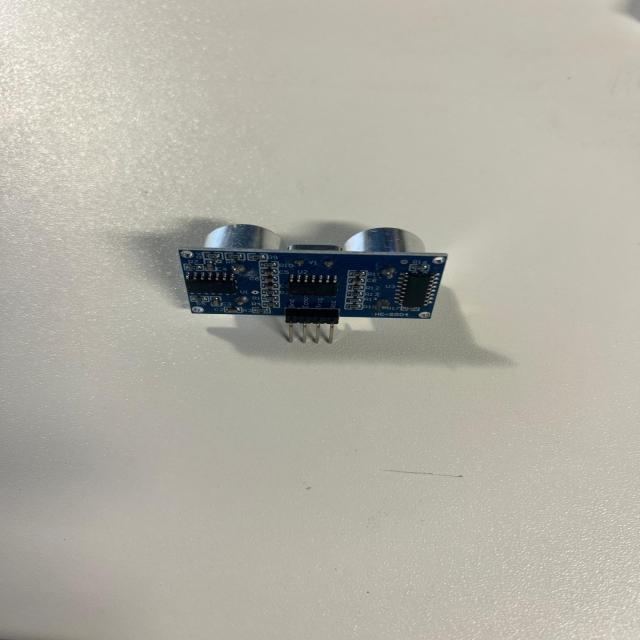UltrasoneSensor: (172, 220, 483, 357)
